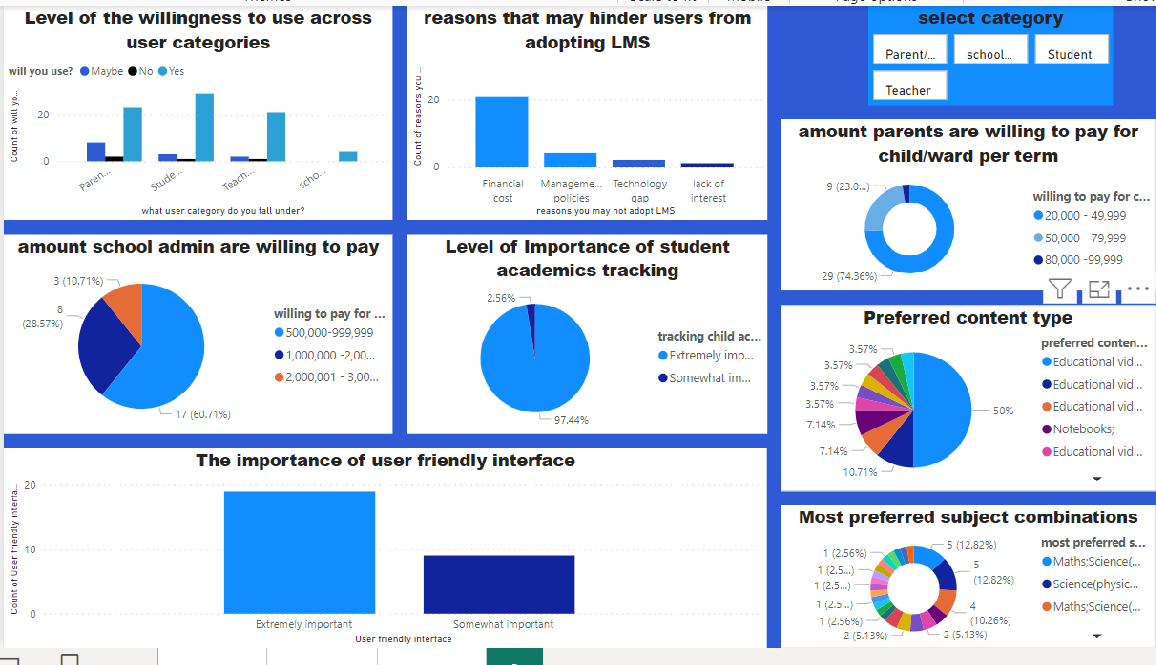

Layout of this report page (visuals, bound fields, positions):
{"tool":"powerbi","page":{"name":"Page 2","canvas":[1280,720],"ordinal":1},"visuals":[{"type":"pieChart","title":"amount school admin are willing to pay","fields":{"Category":["schoolBase.willing to pay for school"],"Y":["CountNonNull(schoolBase.willing to pay for school)"]},"box":[0,256,432,224],"z":0},{"type":"columnChart","title":"reasons that may hinder users from adopting LMS","fields":{"Y":["CountNonNull(schoolBase.reasons you may not adopt LMS)"],"Category":["schoolBase.reasons you may not adopt LMS"]},"box":[448,0,400,240],"z":1000},{"type":"lineStackedColumnComboChart","title":"amount parents are willing to pay for child/ward per term","fields":{"Category":["schoolBase.willing to pay for child/ward per term"],"Y":["CountNonNull(schoolBase.willing to pay for child/ward per term)"]},"box":[864,128,416,192],"z":2000},{"type":"pieChart","title":"Level of Importance of student academics tracking","fields":{"Category":["schoolBase.tracking child academic progress and attendance?"],"Y":["CountNonNull(schoolBase.tracking child academic progress and attendance?)"]},"box":[448,256,400,224],"z":3000},{"type":"clusteredColumnChart","title":"The importance of user friendly interface","fields":{"Y":["CountNonNull(schoolBase.User friendly interface)"],"Category":["schoolBase.User friendly interface"]},"box":[0,496,848,208],"z":4000},{"type":"clusteredColumnChart","title":"Level of the willingness to use across user categories","fields":{"Y":["CountNonNull(schoolBase.will you use?)"],"Category":["schoolBase.what user category do you fall under?"],"Series":["schoolBase.will you use?"]},"box":[0,0,432,240],"z":5000},{"type":"donutChart","title":"Most preferred subject combinations","fields":{"Category":["schoolBase.most preferred subject"],"Y":["CountNonNull(schoolBase.most preferred subject)"]},"box":[864,560,416,160],"z":6000},{"type":"pieChart","title":"Preferred content type","fields":{"Category":["schoolBase.preferred content type"],"Y":["CountNonNull(schoolBase.preferred content type)"]},"box":[864,336,416,208],"z":7000},{"type":"advancedSlicerVisual","title":"select category","fields":{"Values":["schoolBase.what user category do you fall under?"]},"box":[960,0,272,112],"z":8000}]}

Visuals, with their boxes in screenshot pixels (x1, y1, x2, y2):
"amount school admin are willing to pay" pieChart: [left=6, top=231, right=391, bottom=431]
"reasons that may hinder users from adopting LMS" columnChart: [left=405, top=3, right=761, bottom=217]
"amount parents are willing to pay for child/ward per term" lineStackedColumnComboChart: [left=776, top=117, right=1146, bottom=288]
"Level of Importance of student academics tracking" pieChart: [left=405, top=231, right=761, bottom=431]
"The importance of user friendly interface" clusteredColumnChart: [left=6, top=445, right=761, bottom=630]
"Level of the willingness to use across user categories" clusteredColumnChart: [left=6, top=3, right=391, bottom=217]
"Most preferred subject combinations" donutChart: [left=776, top=502, right=1146, bottom=644]
"Preferred content type" pieChart: [left=776, top=302, right=1146, bottom=488]
"select category" advancedSlicerVisual: [left=861, top=3, right=1103, bottom=103]
